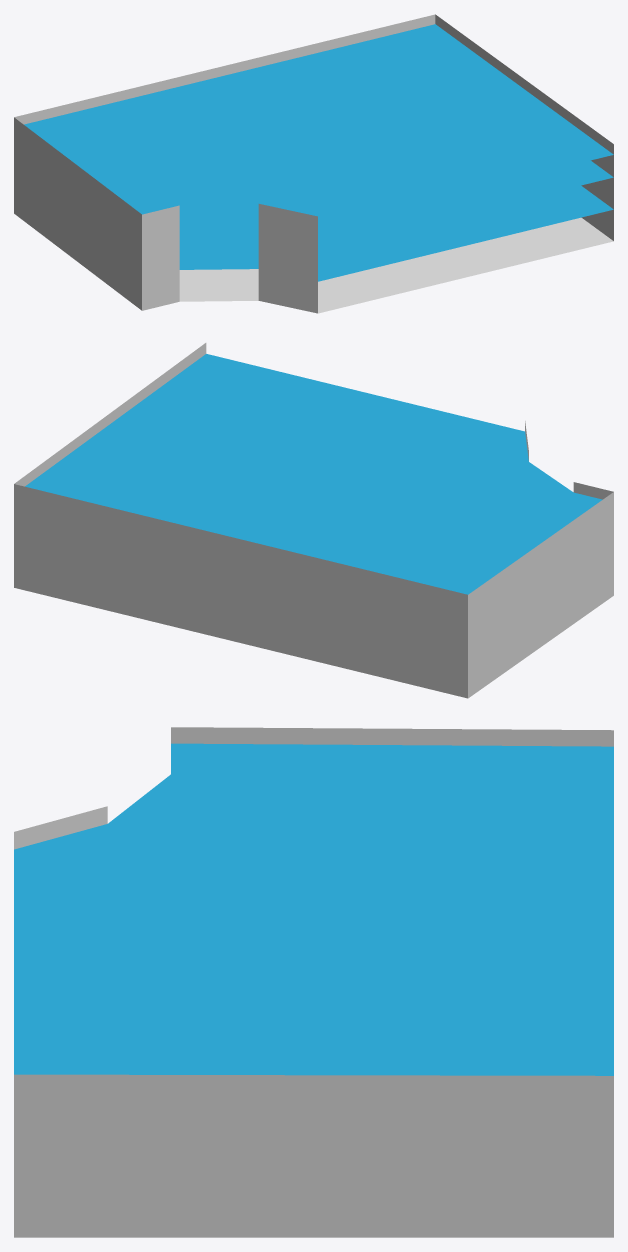
File: garage4.FBX
3 views of the same model, one above another, from view 1: azimuth 30°, elevation 25°; view 2: azimuth 150°, elevation 25°; view 3: azimuth 270°, elevation 25° (orthographic). The views are drawn at different scales.
Visible parts, largest first — view 1: Line004, Line001, Line002, Line003; view 2: Line004, Line001; view 3: Line004, Line001.
Boxes of the visible parts, bbox=[...] form: Line004: bbox=[24, 24, 613, 226]; Line001: bbox=[14, 14, 613, 313]; Line002: bbox=[179, 185, 613, 281]; Line003: bbox=[179, 160, 613, 249]; Line004: bbox=[25, 354, 602, 594]; Line001: bbox=[14, 343, 613, 698]; Line004: bbox=[14, 743, 613, 1075]; Line001: bbox=[14, 727, 613, 1237].
Bounding box in the file's own units: 137 × 29.9 × 99.63.
